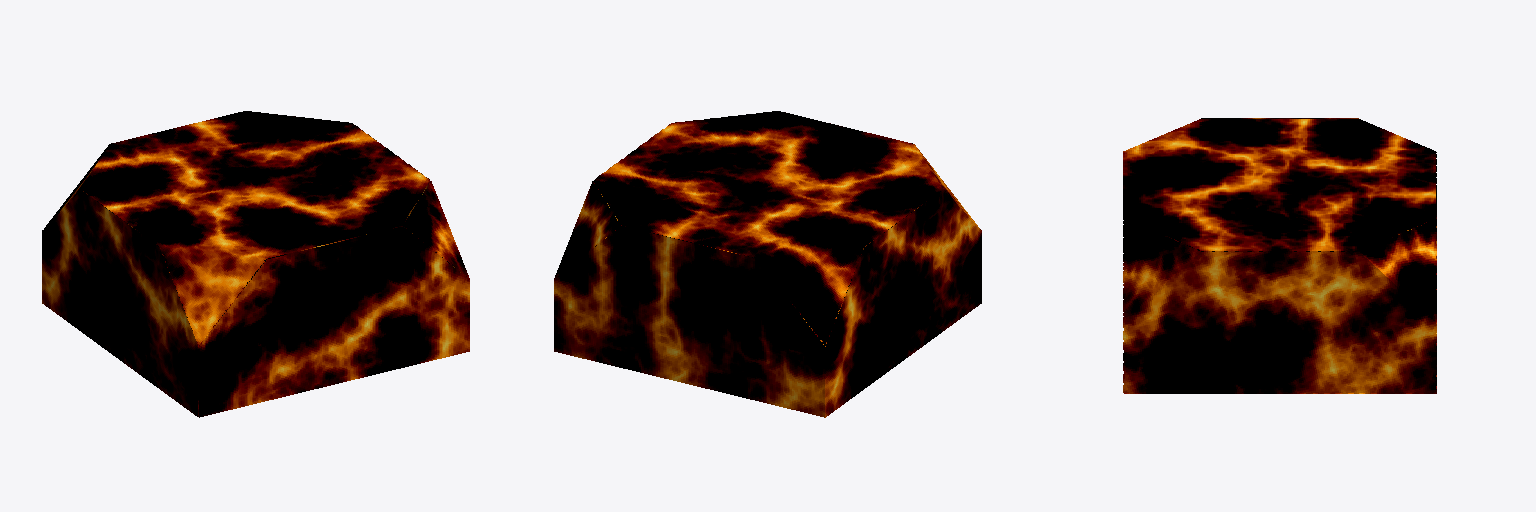
The picture shows the model from 3 angles: view 1: azimuth 30°, elevation 25°; view 2: azimuth 150°, elevation 25°; view 3: azimuth 270°, elevation 25°; orthographic projection.
Visible parts, largest first — view 1: Cube1; view 2: Cube1; view 3: Cube1.
Part boxes in pixels (bbox=[...]): Cube1: bbox=[42, 111, 469, 417]; Cube1: bbox=[554, 111, 981, 417]; Cube1: bbox=[1123, 118, 1436, 393].
Bounding box in the file's own units: 4 × 2 × 4.
1 materials, 1 textured.